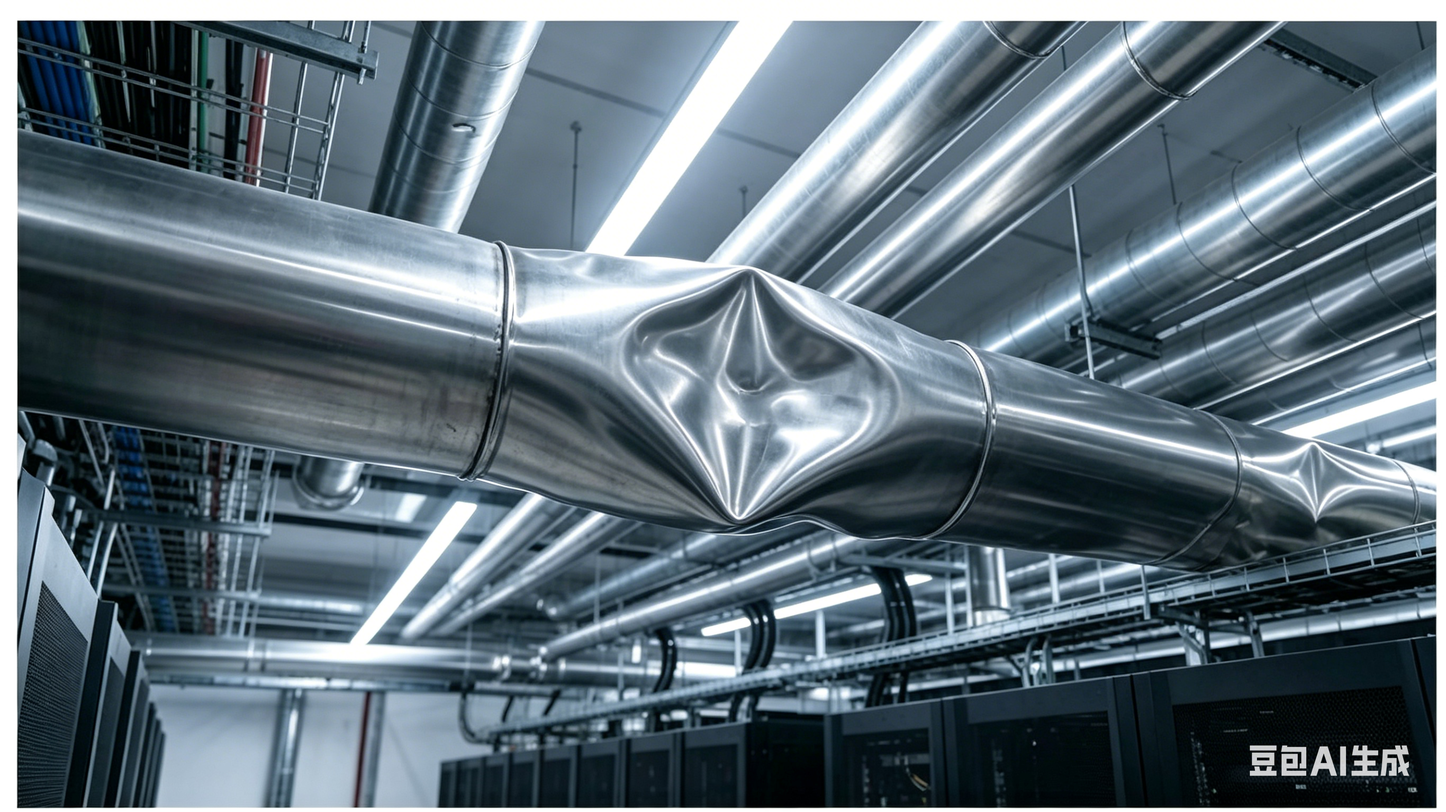Leakage: (613, 264, 908, 536), (1238, 425, 1407, 557), (485, 226, 609, 298)
